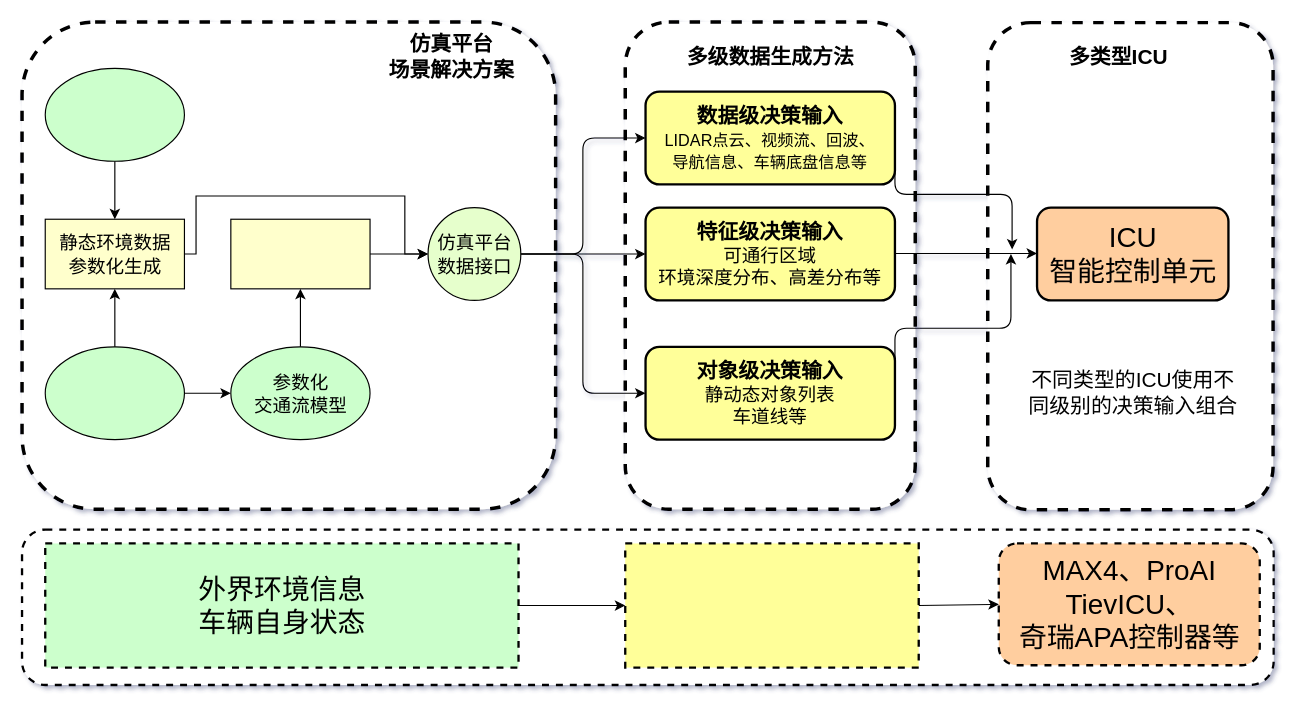
Image size: 1302x712. Some labels were removed from this diagram. Each missing label, with the centre of its shape:
"LIDAR（SDK） Carmera （ECU） Radar、IMU、GNSS" belongs at pixel 771 605.
"动态环境数据 参数化生成" belongs at pixel 300 253.
"参数化 城市模型" belongs at pixel 114 114.
"参数化 道路模型" belongs at pixel 114 393.
